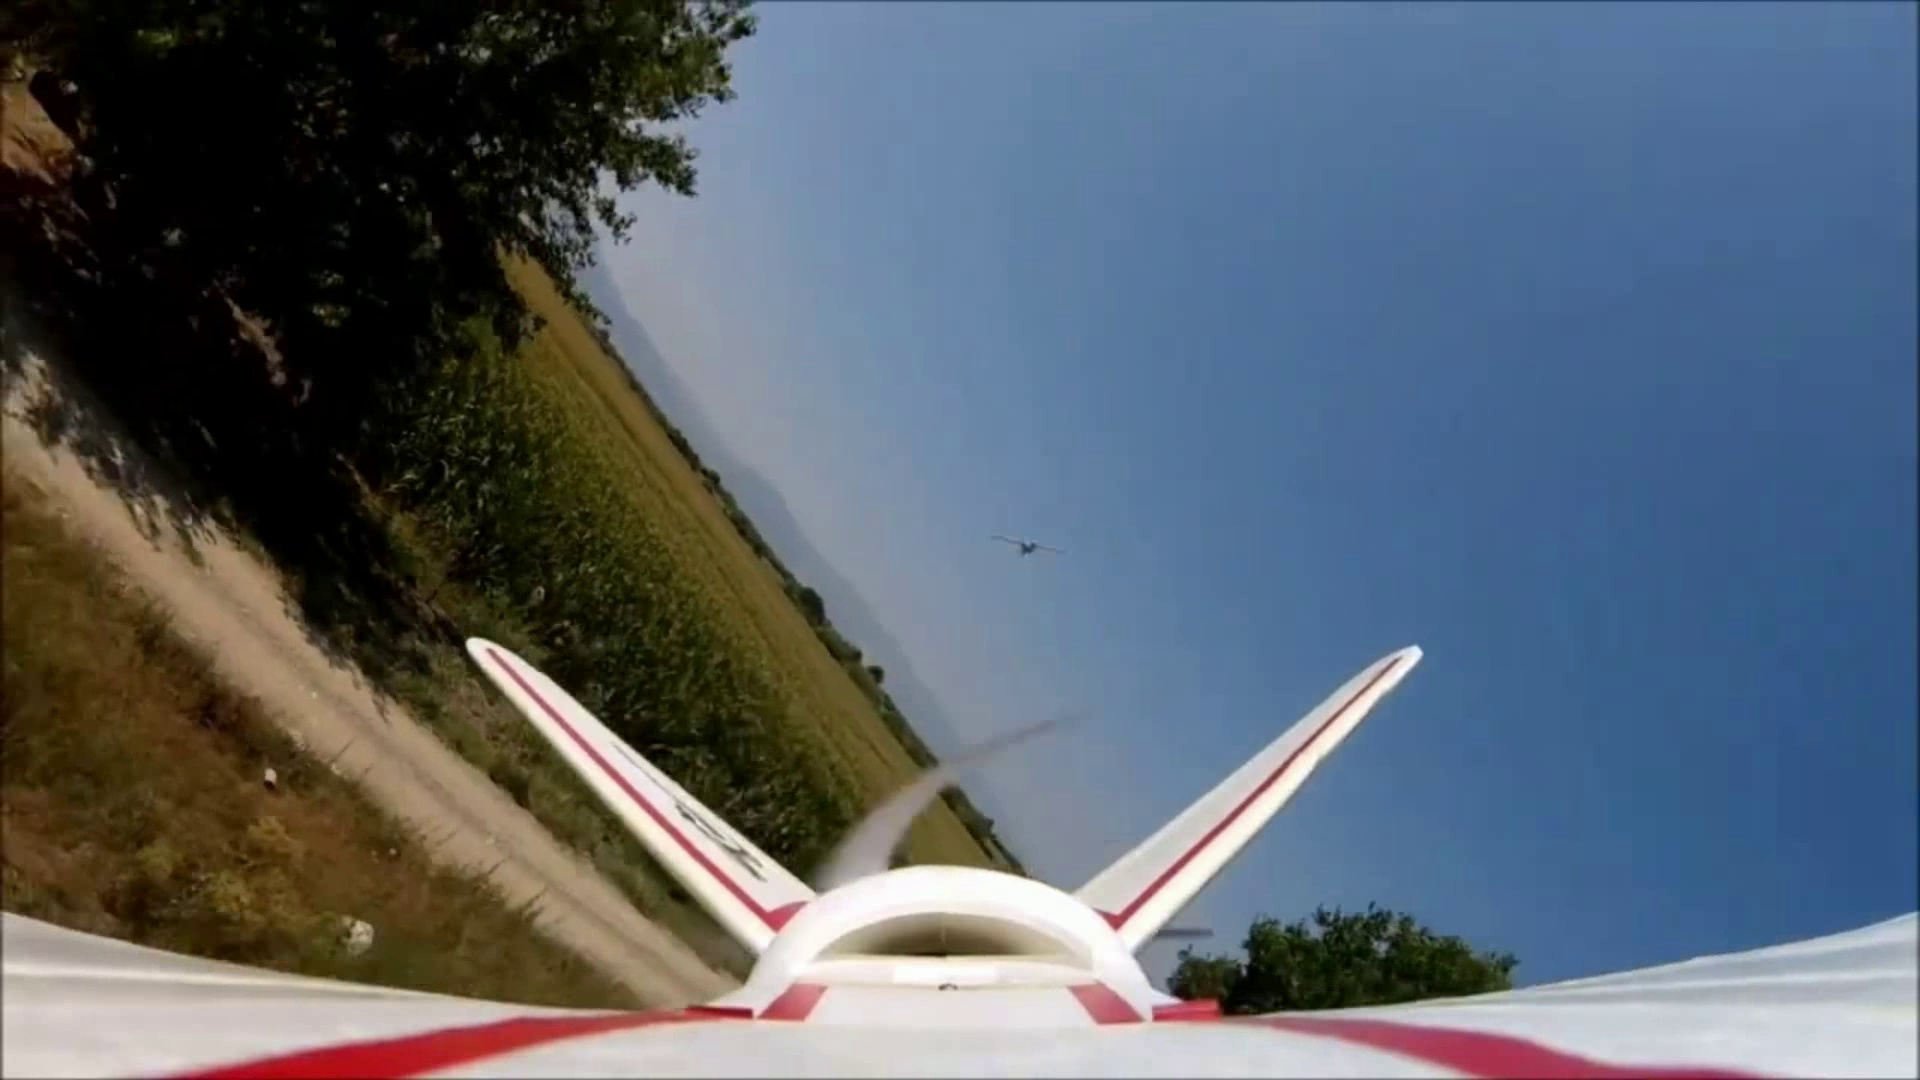airplane: (8, 641, 1903, 1067)
